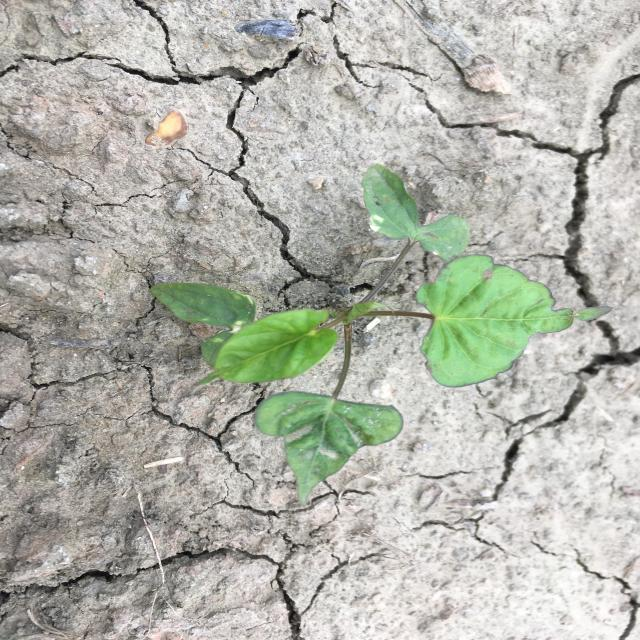MorningGlory: (150, 163, 613, 508)
